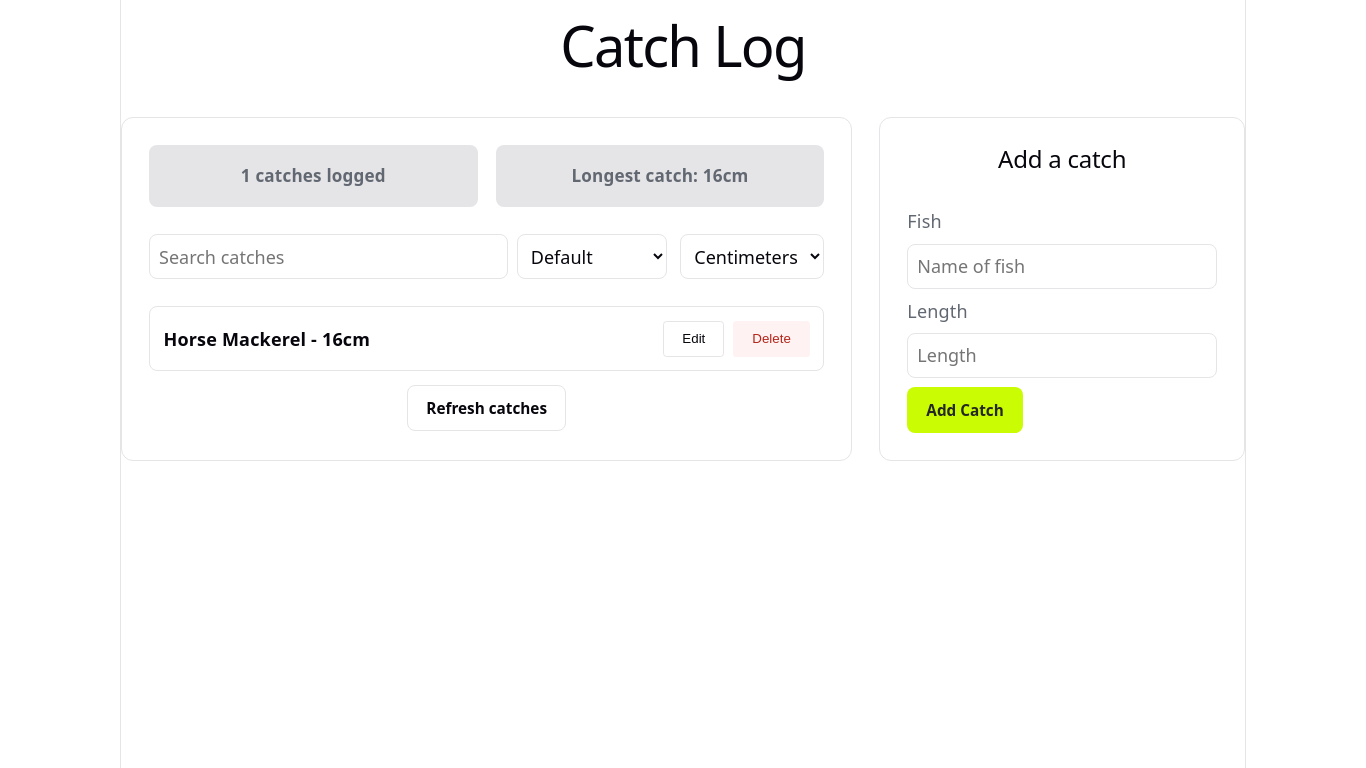
Test case: edits a catch through the catch log
Click the button "Edit" at [694, 339], box [663, 321, 724, 357]
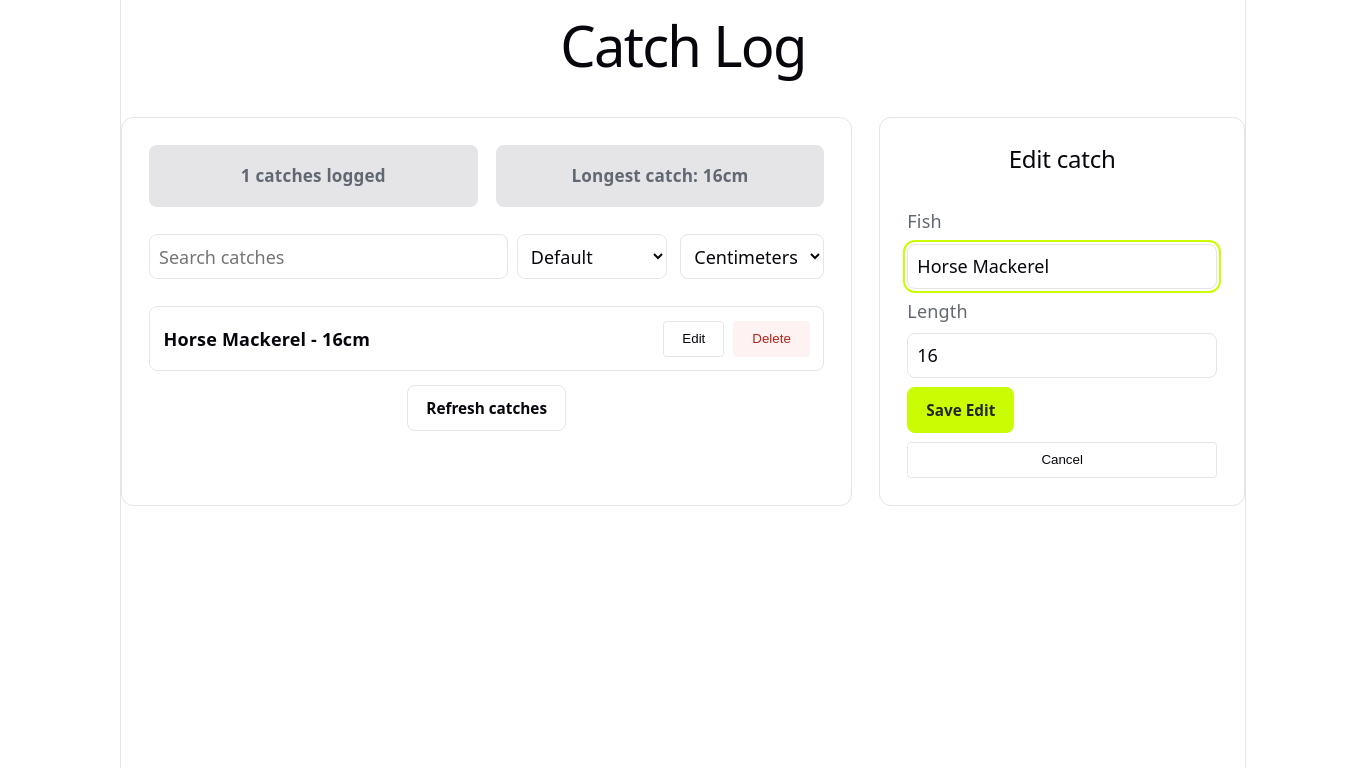
Now the field with placeholder "Name of fish" holds "Horse Mackerel"
Now the number field with placeholder "Length" holds "16", box [907, 333, 1217, 378]
Replace the text in the field with placeholder "Name of fish" with "Atlantic Mackerel" at [1062, 266], box [907, 244, 1217, 288]
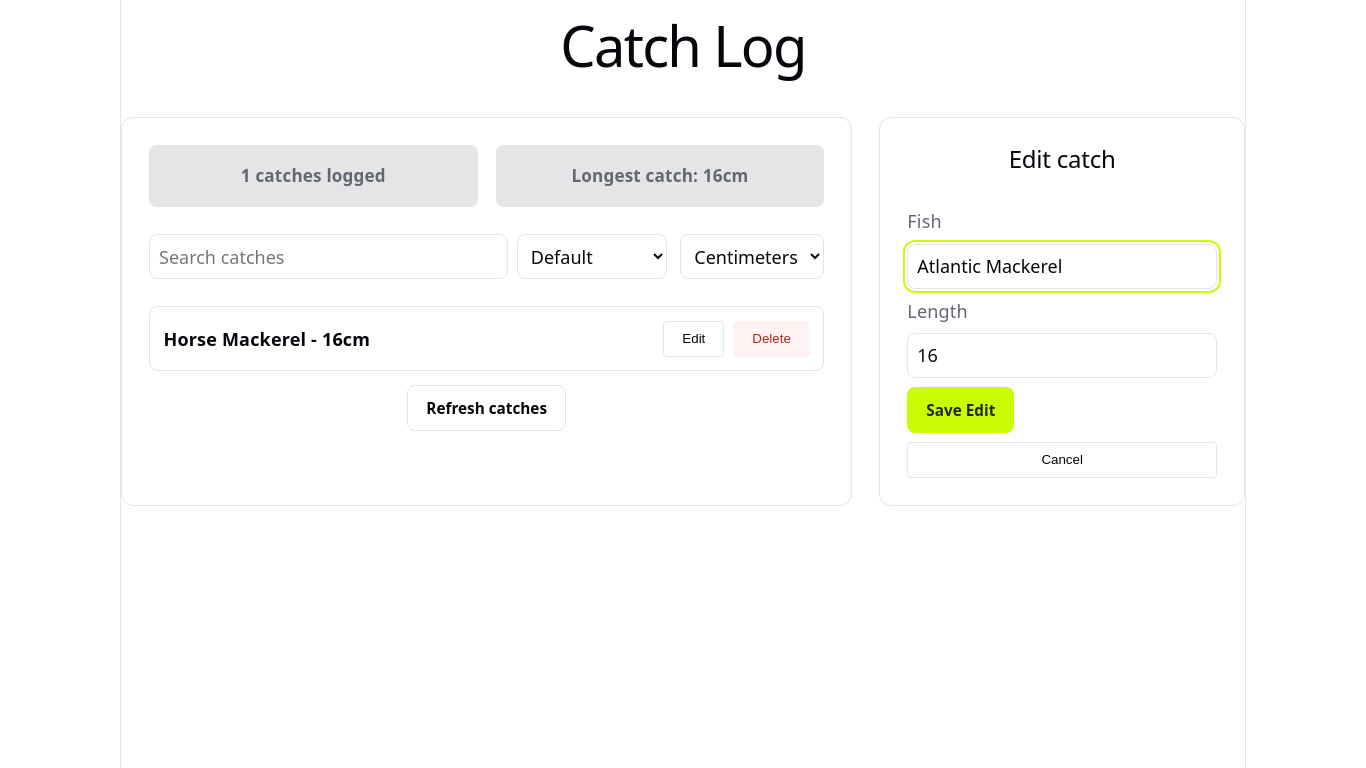
Click the button "Save Edit" at [961, 410], box [907, 387, 1014, 433]
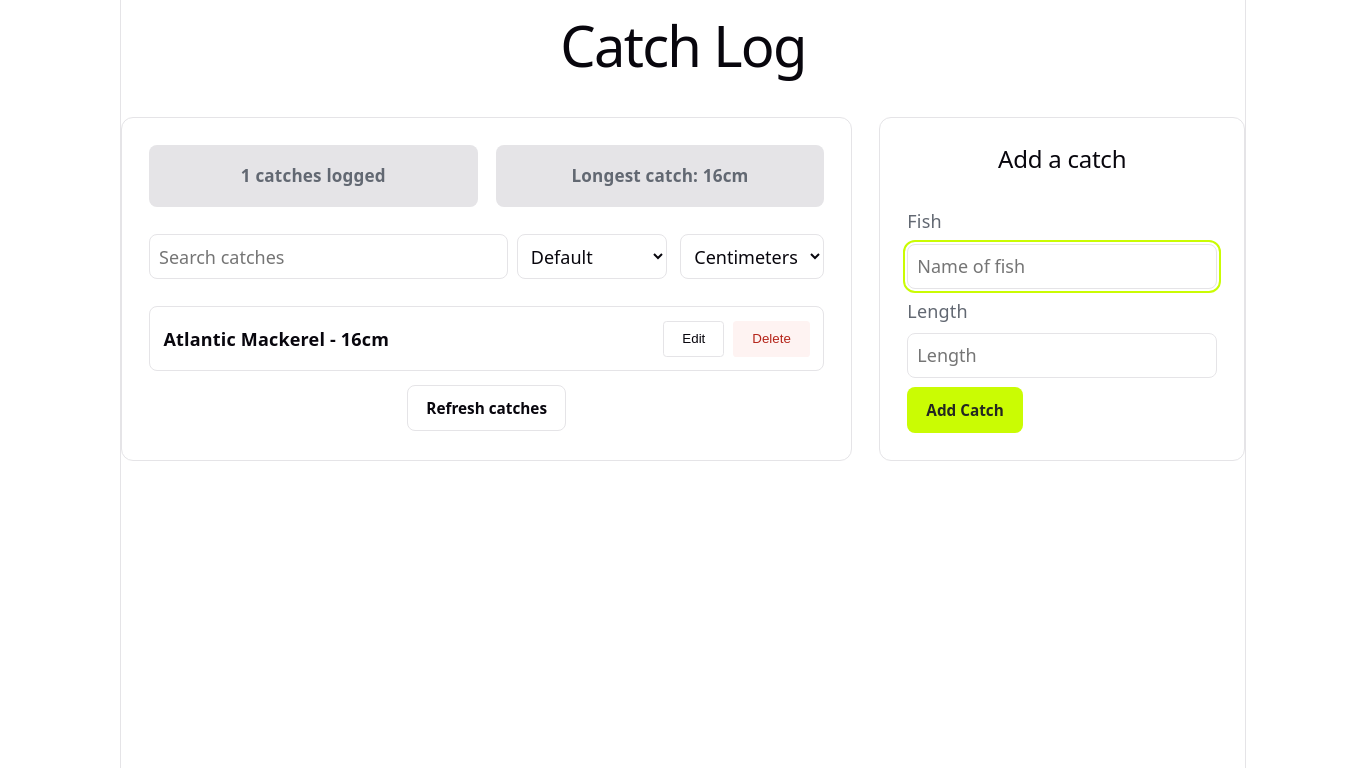
Now the link "Atlantic Mackerel" is shown, box [164, 327, 325, 351]
Now the link "Horse Mackerel" is gone
